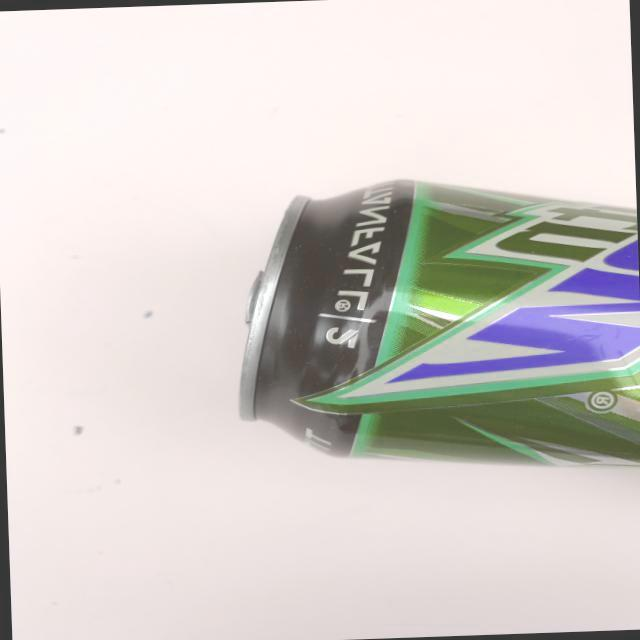metal: (217, 161, 640, 496)
